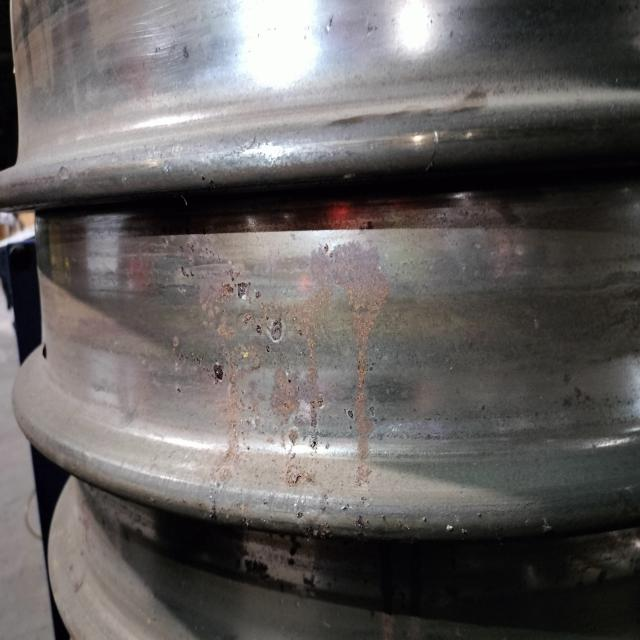Blue hole: (220, 266, 300, 350), (202, 359, 244, 408)
